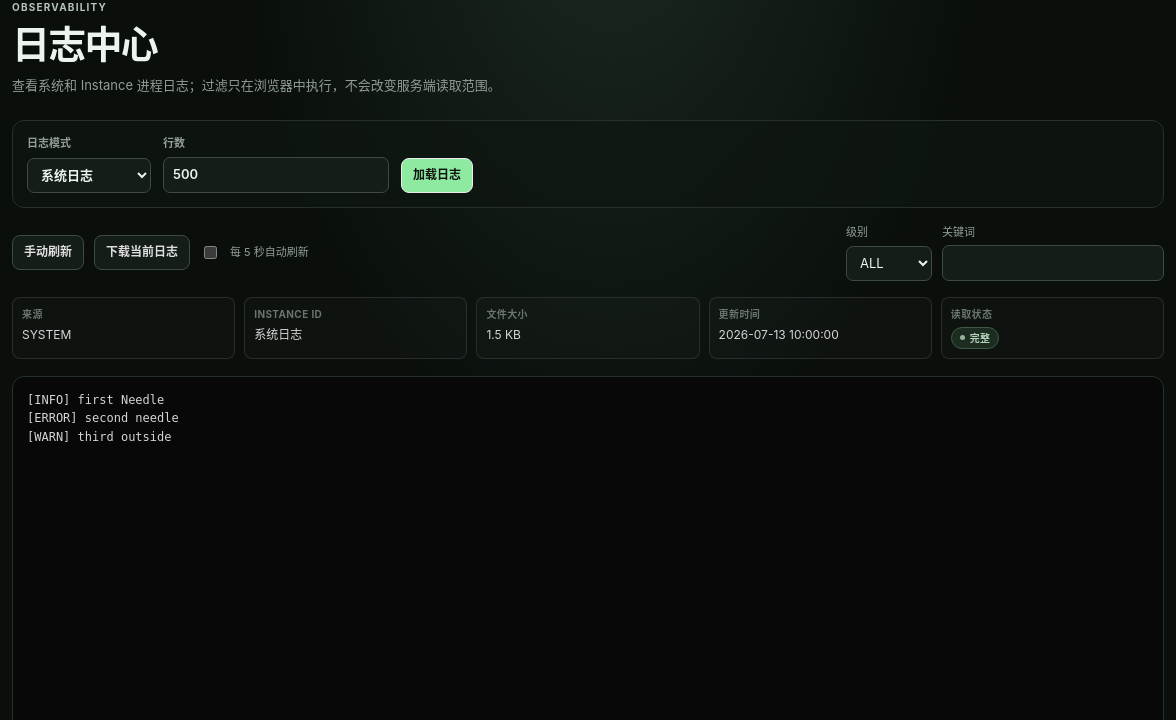
Scenario: LogsPage › filters levels and keywords in the browser while preserving the server line order
The width and height of the screenshot is (1176, 720).
Type "NEEDLE" into the field labelled "关键词" at (1053, 263), box [942,245,1164,281]
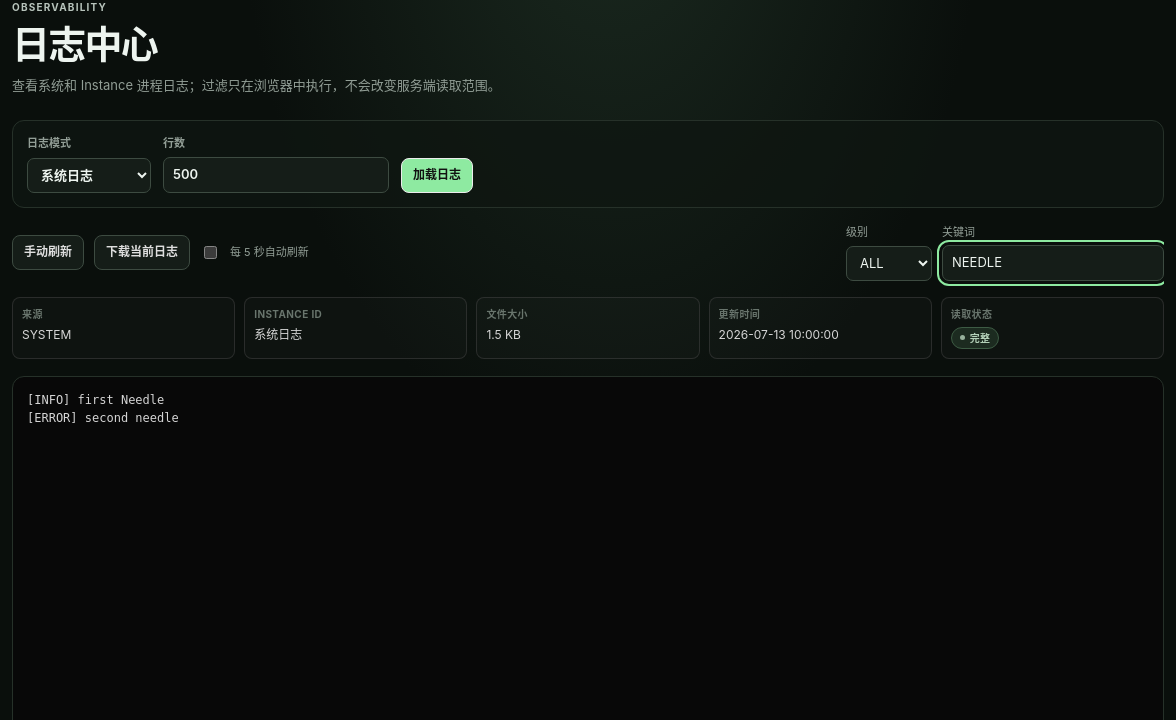
Select "ERROR" in the dropdown labelled "级别" at (889, 263), box [846,246,932,281]
(page scrolled)
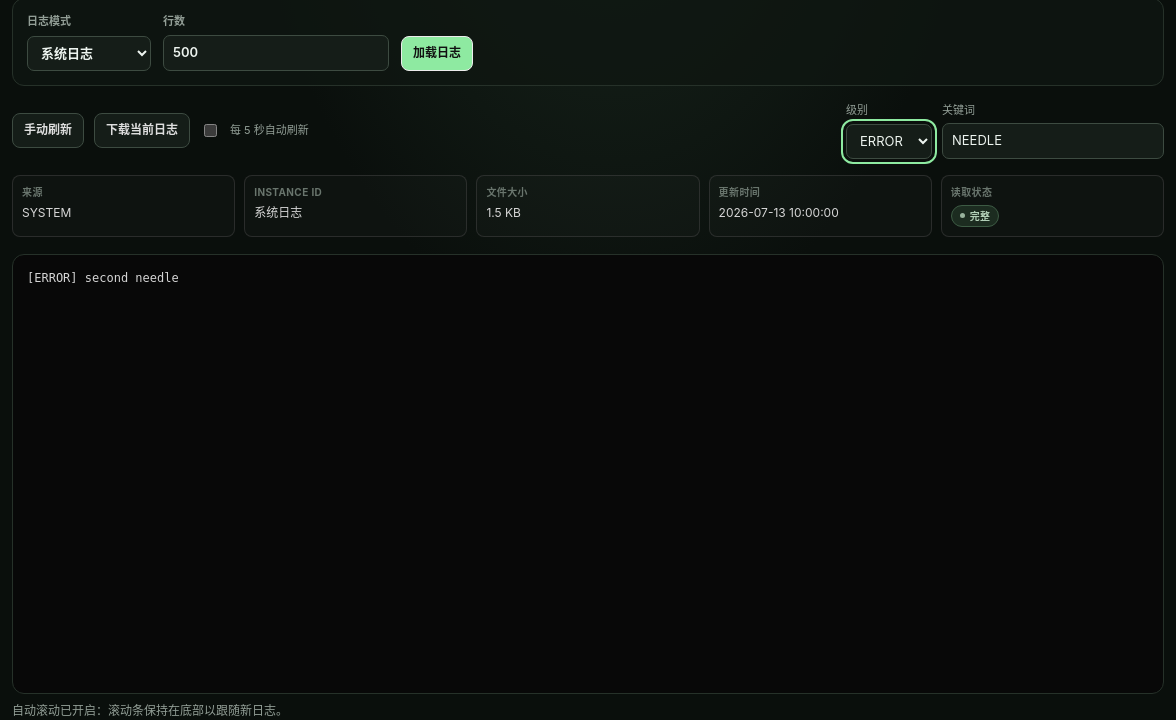
Check: the text named "日志内容" reads "[ERROR] second needle", box [27,271,179,285]
